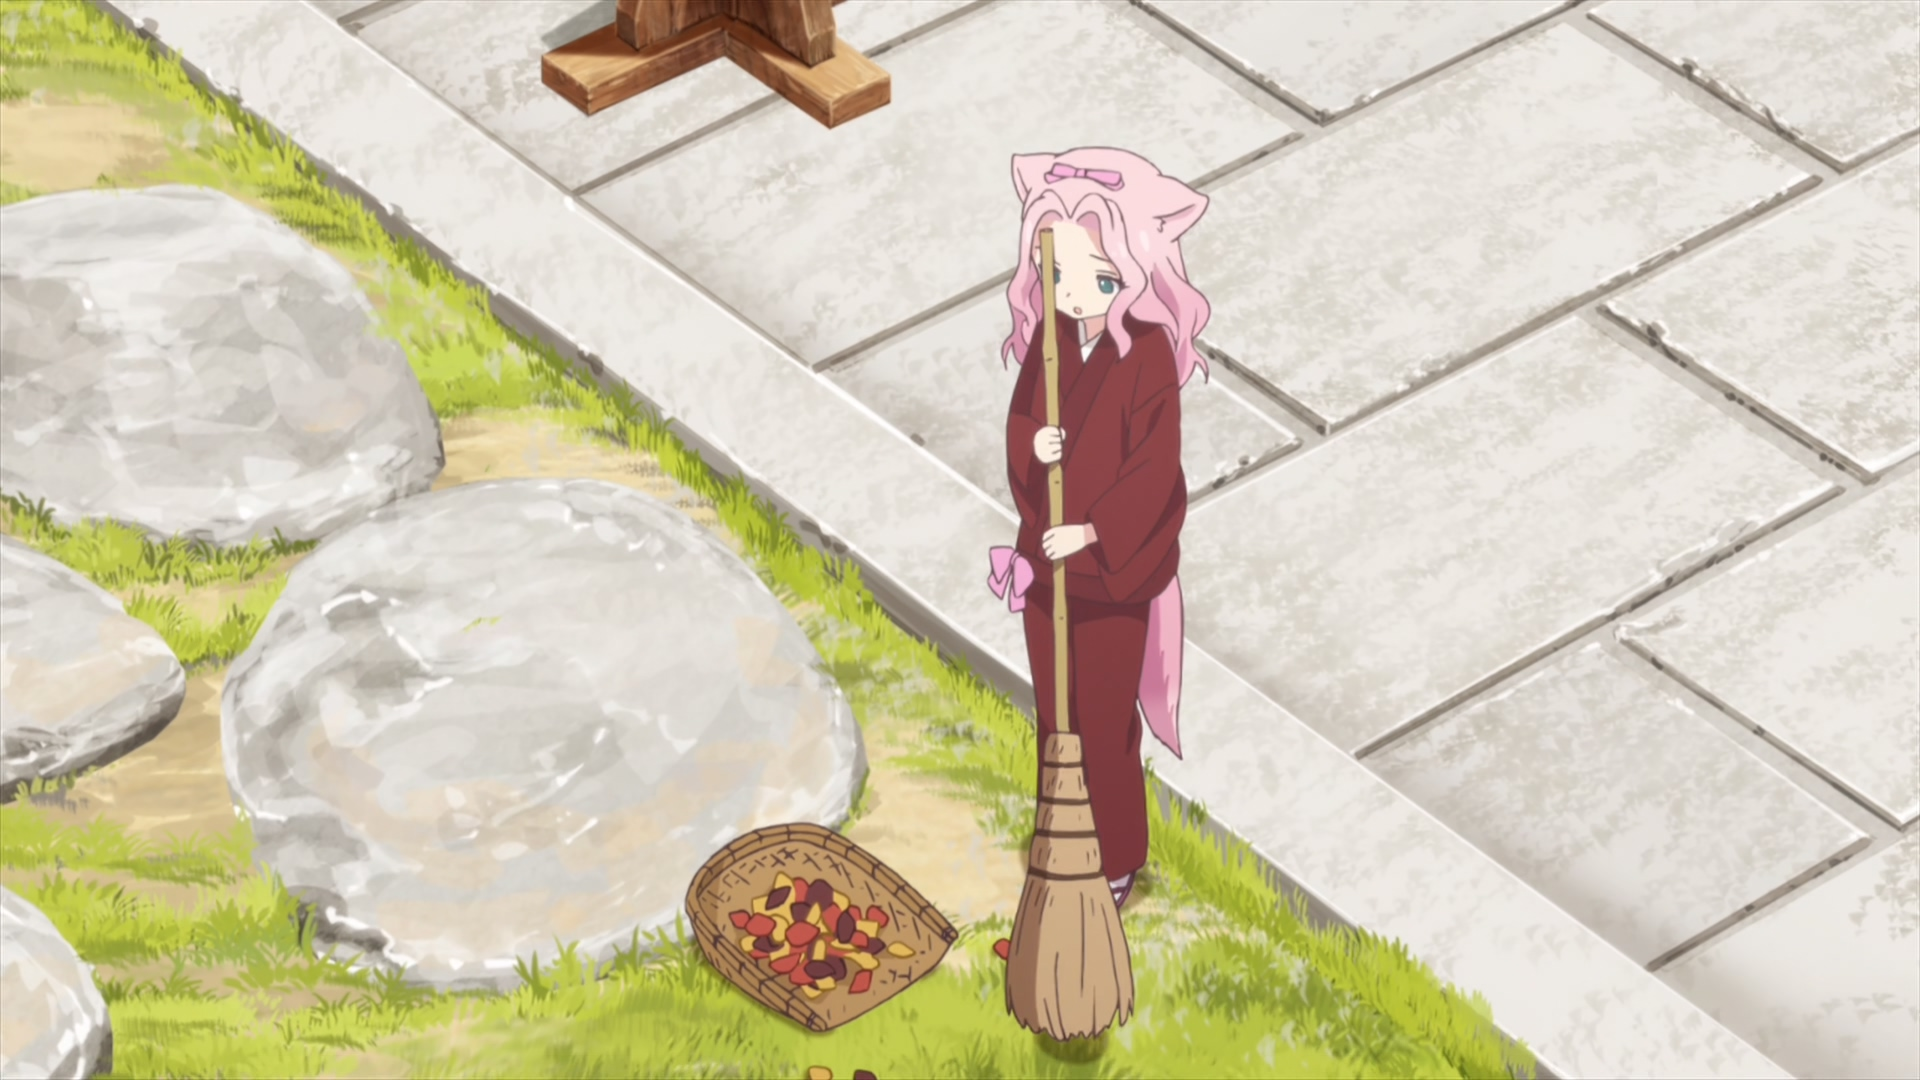莲: (986, 148, 1211, 913)
